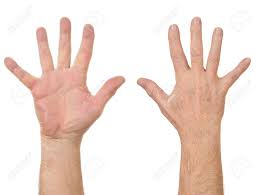hand: (1, 13, 127, 141), (134, 13, 254, 132)
